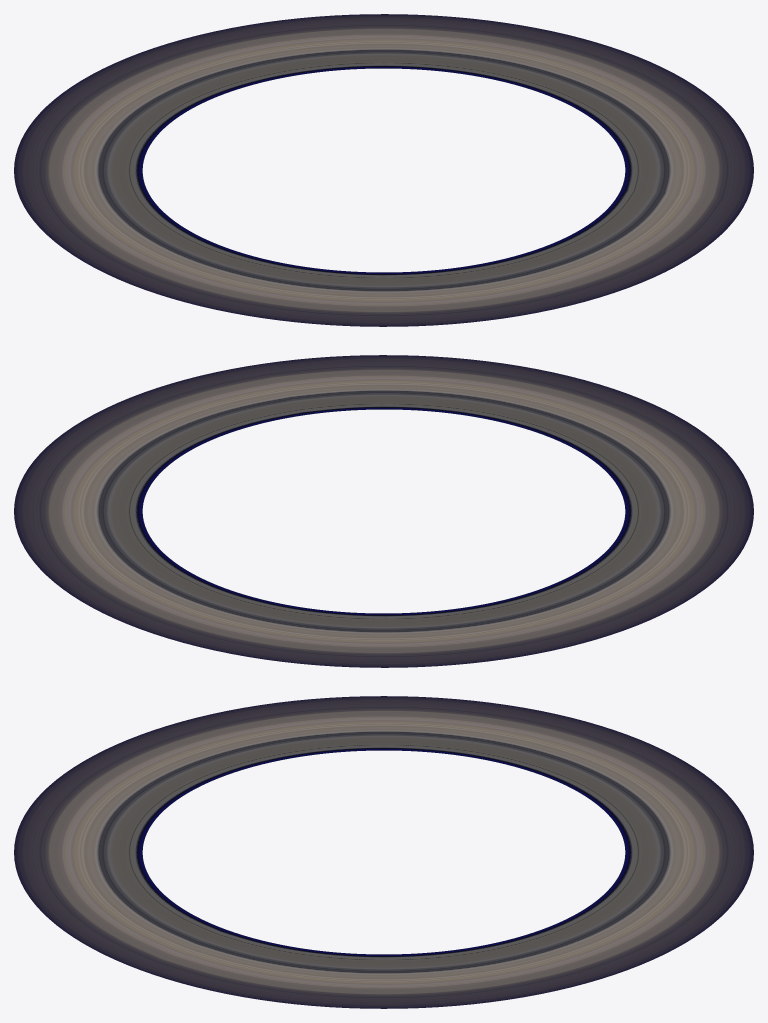
The model's file is saturn_rings.obj.
3 views of the same model, one above another, from view 1: azimuth 30°, elevation 25°; view 2: azimuth 150°, elevation 25°; view 3: azimuth 270°, elevation 25° (orthographic).
Size of the model in its own units: 4.64 by 6.24e-07 by 4.64.
1 material, 1 textured.
